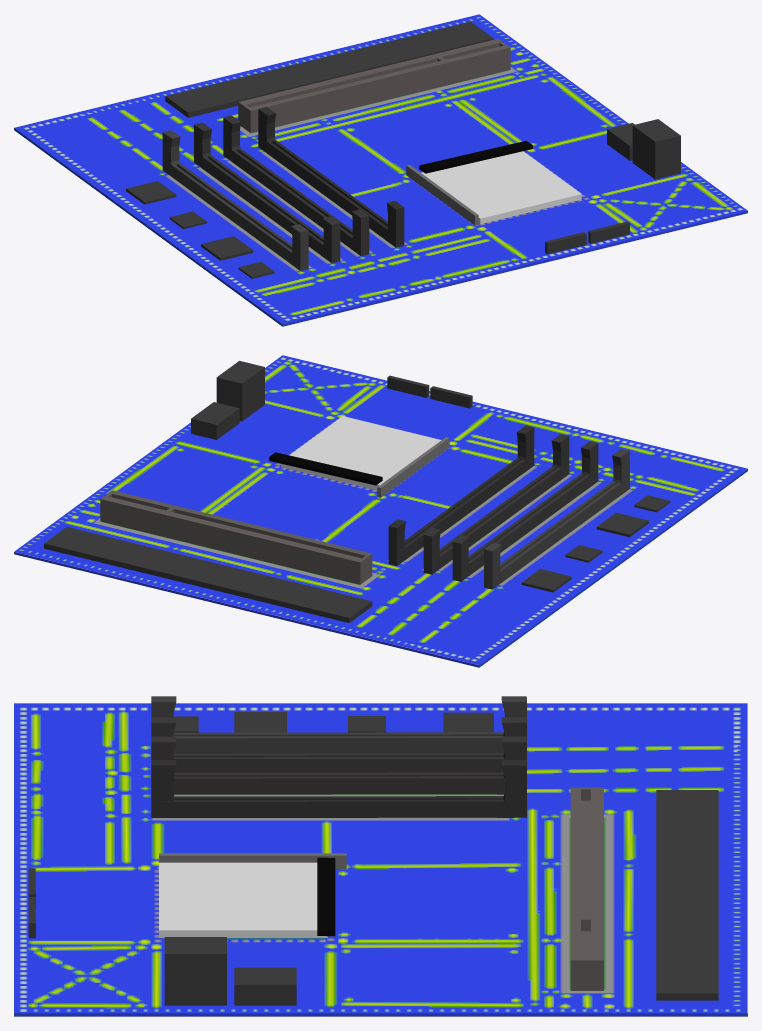
Rendered from PlacaMadre2.fbx.
3 views of the same model, one above another, from view 1: azimuth 30°, elevation 25°; view 2: azimuth 150°, elevation 25°; view 3: azimuth 270°, elevation 25° (orthographic). The views are drawn at different scales.
Visible parts, largest first — view 1: Cube, Cube.005, Cube.016, Cube.013, Cube.002, Cube.011, Cube.006, Cube.007, Cube.015, Cube.014; view 2: Cube, Cube.005, Cube.016, Cube.013, Cube.002, Cube.011, Cube.006, Cube.007, Cube.015, Cube.014; view 3: Cube, Cube.005, Cube.013, Cube.011, Cube.007, Cube.002, Cube.006, Cube.016, Cube.014, Cube.015.
Part boxes in pixels (x1,y1,x2,y2): Cube: (14, 14, 747, 326); Cube.005: (126, 21, 680, 278); Cube.016: (238, 38, 510, 133); Cube.013: (421, 151, 581, 224); Cube.002: (162, 130, 308, 270); Cube.011: (258, 107, 404, 247); Cube.006: (194, 122, 340, 263); Cube.007: (223, 115, 369, 255); Cube.015: (419, 140, 532, 173); Cube.014: (406, 164, 478, 225); Cube: (14, 355, 747, 667); Cube.005: (44, 361, 670, 622); Cube.016: (100, 490, 372, 584); Cube.013: (281, 416, 441, 490); Cube.002: (484, 448, 629, 589); Cube.011: (388, 425, 534, 565); Cube.006: (452, 441, 598, 581); Cube.007: (423, 434, 569, 574); Cube.015: (269, 452, 382, 485); Cube.014: (377, 437, 449, 497); Cube: (14, 703, 747, 1016); Cube.005: (28, 712, 718, 1005); Cube.013: (159, 862, 327, 937); Cube.011: (151, 760, 526, 817); Cube.007: (151, 736, 526, 794); Cube.002: (151, 696, 526, 753); Cube.006: (151, 717, 526, 772); Cube.016: (570, 787, 603, 990); Cube.014: (159, 853, 346, 869); Cube.015: (317, 857, 335, 936).
Bounding box in the file's own units: 100 × 8.35 × 100.
10 materials, 1 textured.
